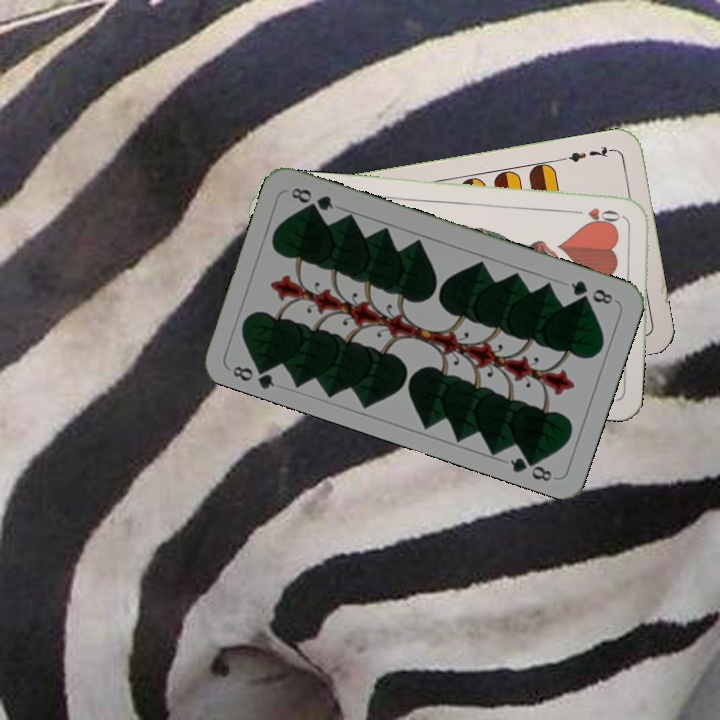E7: (558, 142, 617, 165)
G8: (228, 358, 277, 391), (566, 276, 616, 307)
HO: (569, 203, 628, 225)
